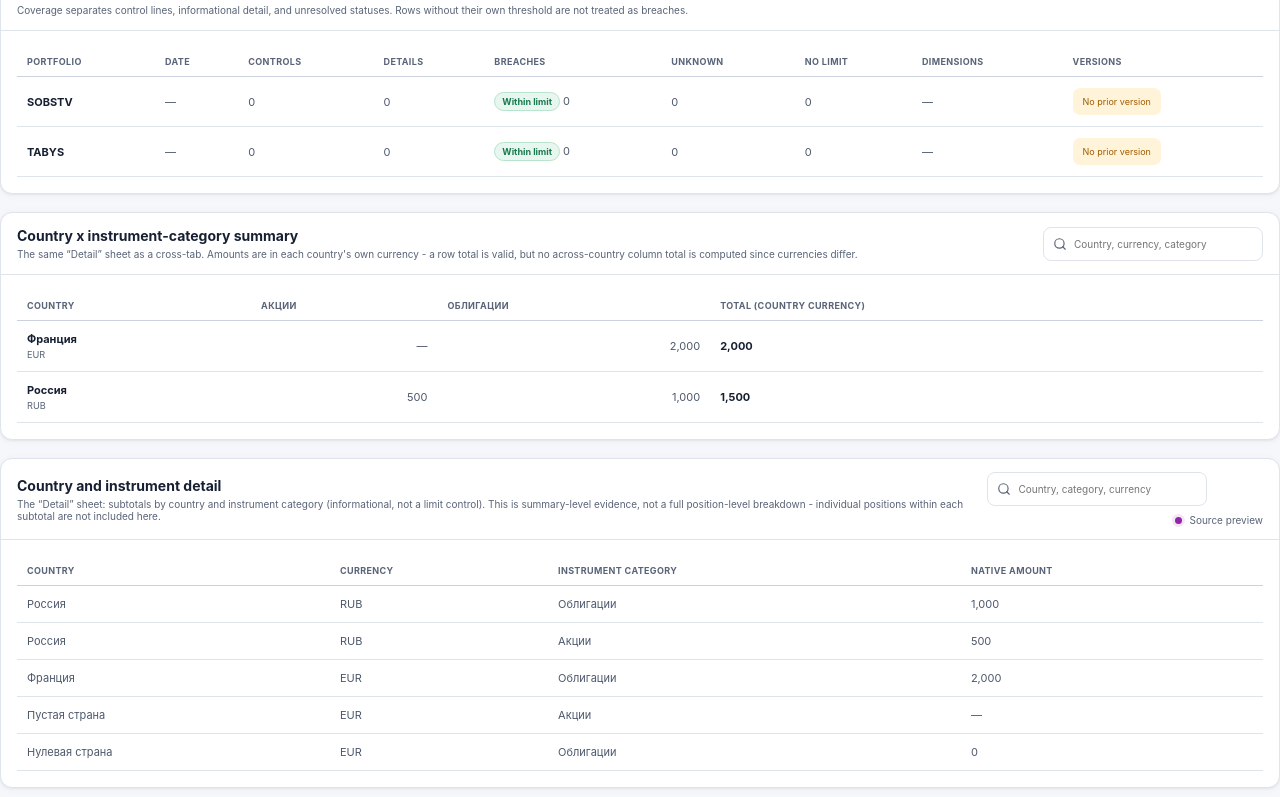
Test: multi-source domain pages › renders the country x instrument-category pivot with a valid per-row total but no cross-currency column total
(page scrolled)
Expected: the element that starts with "Country x instrument-category summary" is shown, [0,212,1279,440]
Expected: the text "1,500" is shown, [720,390,750,404]
What coordinates should you click on to do the following:
click the text "1,000" next to "1,500"
I would click on:
 (574, 397)
Its box is [438,372,710,423].
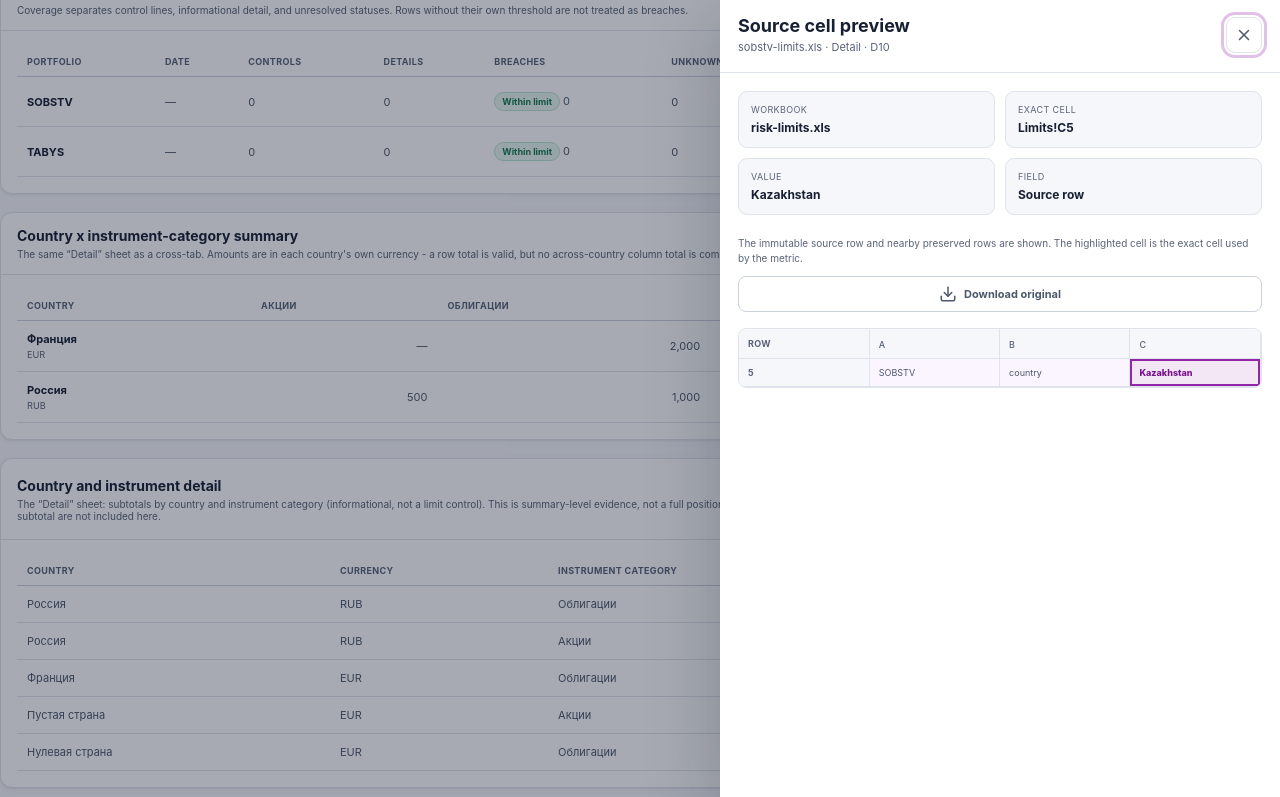
Expected: the heading "Source cell preview" is shown, [738,15,910,36]
